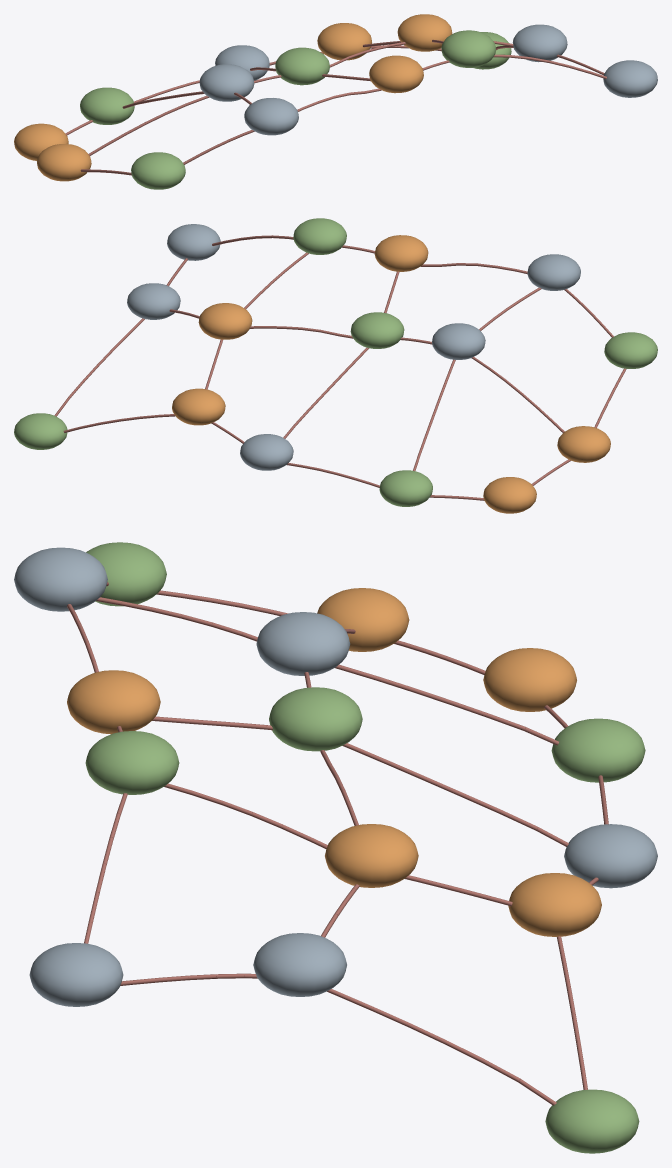
Rendered from props_p6__p6_chest.glb.
3 renders of one model, top to bottom at view 1: azimuth 30°, elevation 25°; view 2: azimuth 150°, elevation 25°; view 3: azimuth 270°, elevation 25°, orthographic. The views are drawn at different scales.
Visible parts, largest first — view 1: boil_bump (×15), chest_veins; view 2: boil_bump (×15), chest_veins; view 3: boil_bump (×15), chest_veins.
Boxes of the visible parts, left/top/right/bottom form: boil_bump (×15): left=14, top=14, right=657, bottom=189; chest_veins: left=65, top=39, right=606, bottom=175; boil_bump (×15): left=14, top=218, right=657, bottom=513; chest_veins: left=54, top=235, right=626, bottom=500; boil_bump (×15): left=14, top=542, right=657, bottom=1153; chest_veins: left=67, top=582, right=608, bottom=1105.
Size of the model in its own units: 0.2915 by 0.0875 by 0.1782.
